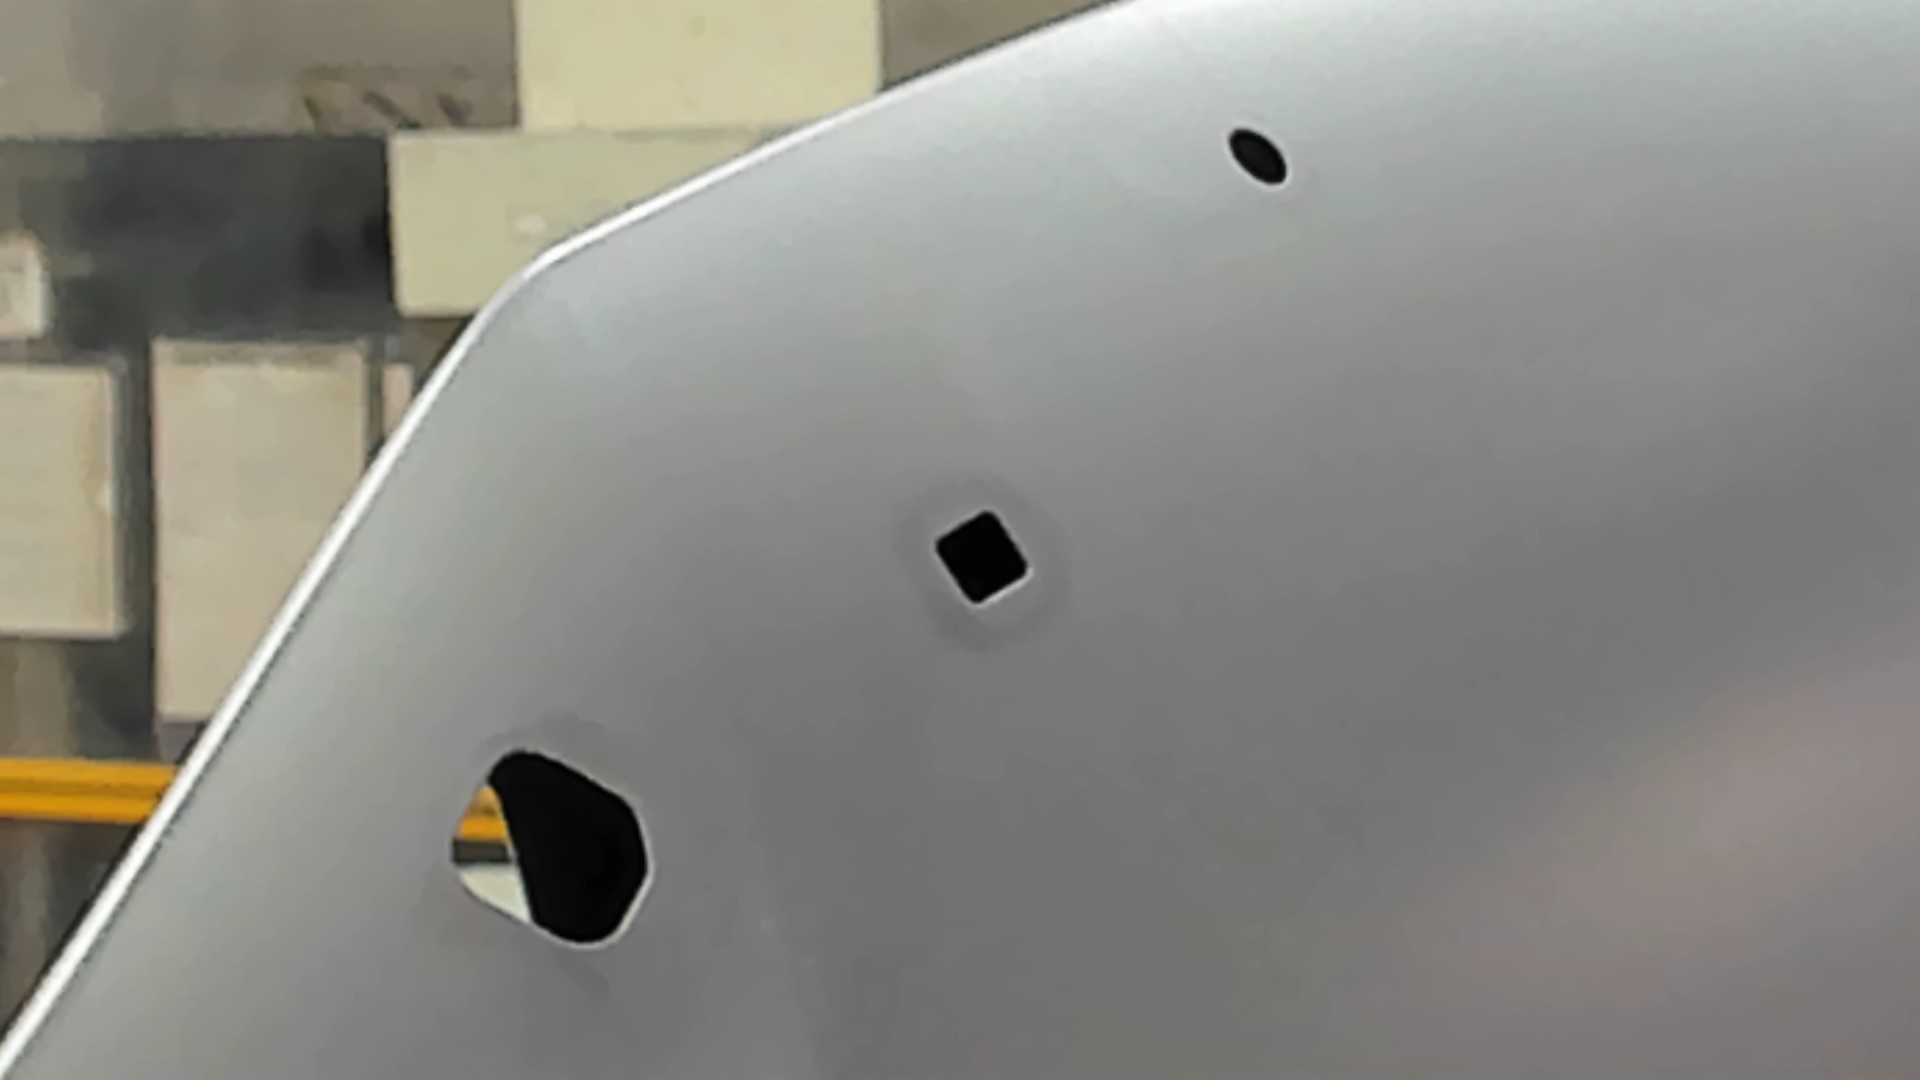chico: (1220, 123, 1291, 191)
grande: (440, 742, 657, 956)
mediano: (923, 504, 1040, 617)
